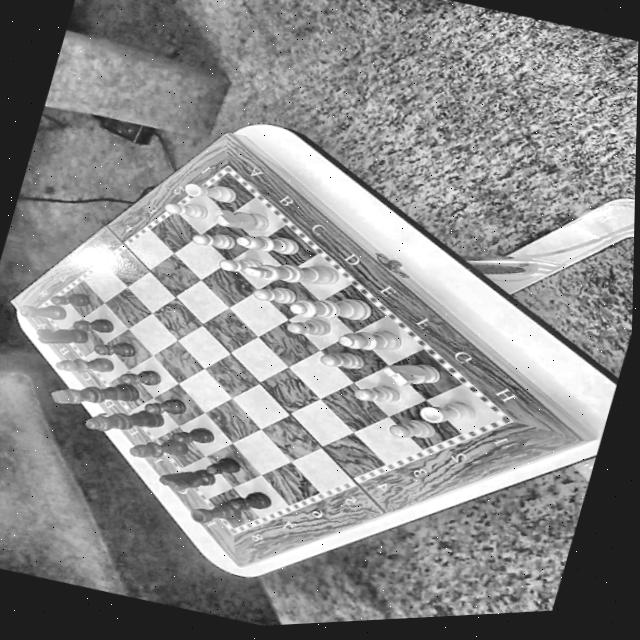chessboard: (43, 173, 497, 527)
